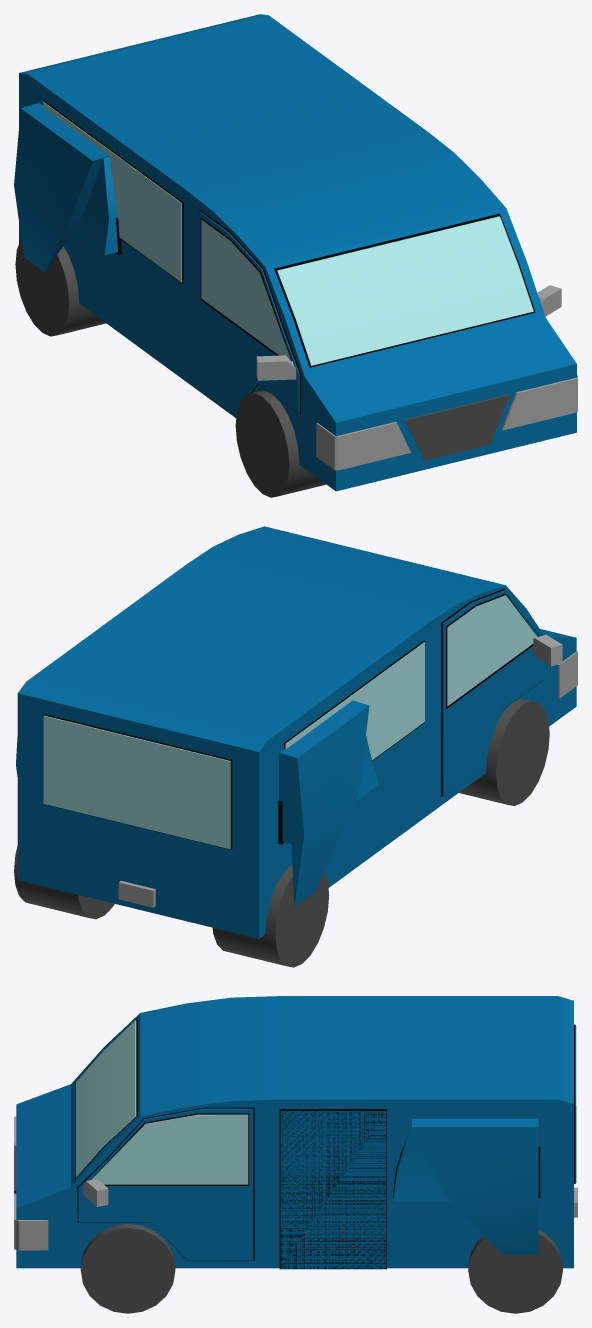
File: Flymo2.0.fbx
The picture shows the model from 3 angles, top to bottom: view 1: azimuth 30°, elevation 25°; view 2: azimuth 150°, elevation 25°; view 3: azimuth 270°, elevation 25°; orthographic projection. The views are drawn at different scales.
Visible parts, largest first — view 1: kuruma1, f_mado, pCube25, doa1, pCube18, pCylinder8, mado1, pCylinder2, pCube12, pCube14, pCube24, pCube13 (+3 smaller); view 2: kuruma1, pCube15, pCube25, doa1, mado1, pCylinder8, pCylinder2, pCube18, pCylinder6, pCube24, pCube16, pCube8 (+3 smaller); view 3: kuruma1, pCube2, pCube23, doa3, pCube6, pCube17, pCylinder5, f_mado, pCylinder6, pCube22, pCube13, doa4 (+3 smaller).
Boxes of the visible parts, x1,y1,x2,y2 form: kuruma1: (19, 14, 576, 491); f_mado: (277, 216, 533, 365); pCube25: (14, 103, 109, 271); doa1: (199, 211, 299, 412); pCube18: (42, 101, 181, 282); pCylinder8: (235, 390, 325, 497); mado1: (201, 219, 293, 364); pCylinder2: (15, 239, 105, 336); pCube12: (405, 394, 509, 460); pCube14: (316, 422, 410, 470); pCube24: (71, 157, 117, 255); pCube13: (501, 375, 577, 430); kuruma1: (17, 526, 576, 938); pCube15: (43, 715, 230, 849); pCube25: (279, 700, 369, 906); doa1: (442, 590, 543, 795); mado1: (447, 595, 536, 706); pCylinder8: (459, 698, 549, 805); pCylinder2: (212, 864, 329, 967); pCube18: (285, 642, 424, 759); pCylinder6: (14, 846, 114, 919); pCube24: (279, 735, 378, 844); pCube16: (43, 714, 232, 849); pCube8: (533, 634, 562, 666); kuruma1: (16, 996, 573, 1268); pCube2: (280, 1111, 386, 1269); pCube23: (412, 1118, 538, 1254); doa3: (78, 1108, 253, 1259); pCube6: (91, 1114, 248, 1184); pCube17: (279, 1109, 386, 1269); pCylinder5: (80, 1223, 175, 1313); f_mado: (75, 1020, 136, 1177); pCylinder6: (468, 1230, 562, 1313); pCube22: (393, 1120, 450, 1201); pCube13: (14, 1193, 48, 1250); doa4: (77, 1107, 254, 1260).
Bounding box in the file's own units: 452 × 339 × 827.
